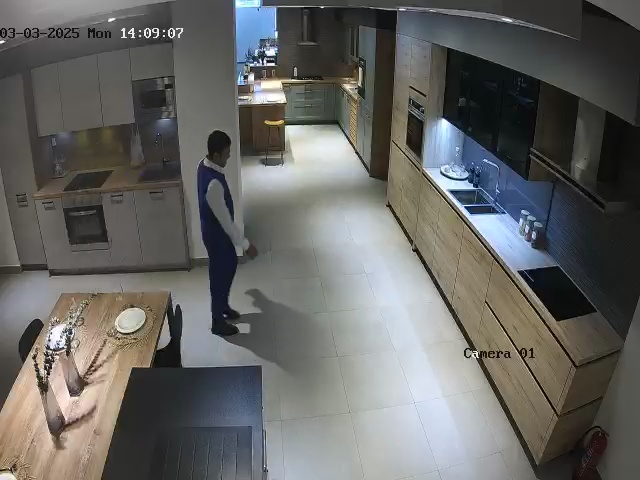employee: (197, 130, 258, 337)
